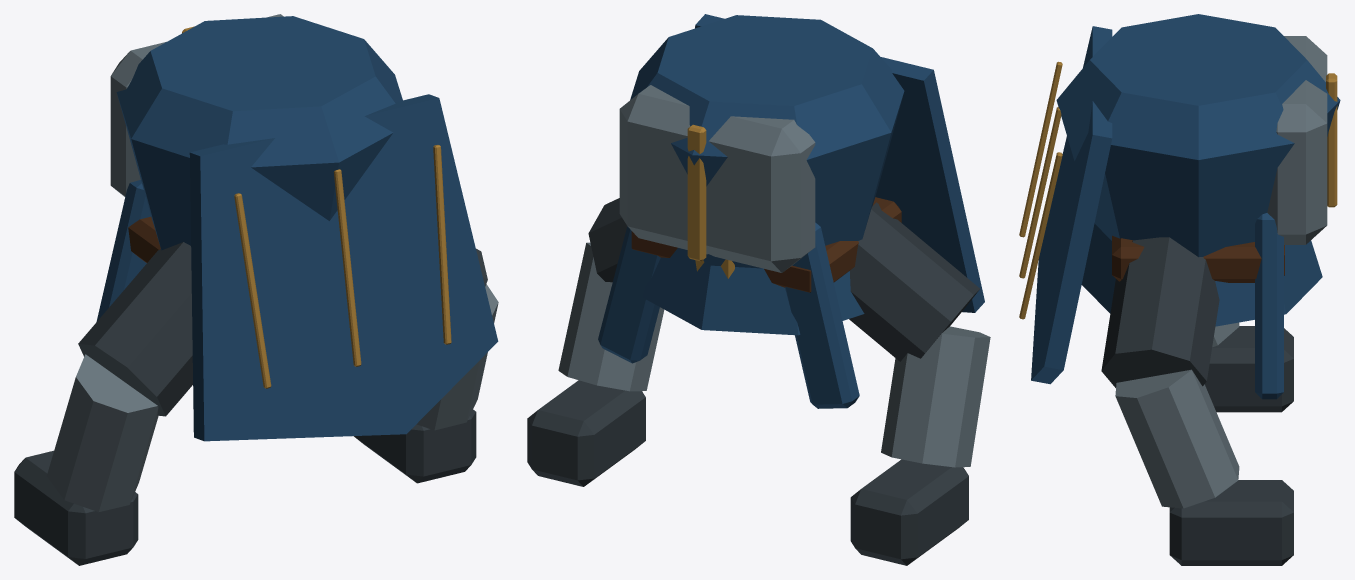
File: Rider.glb
The picture shows the model from 3 angles, left to right: view 1: azimuth 30°, elevation 25°; view 2: azimuth 150°, elevation 25°; view 3: azimuth 270°, elevation 25°; orthographic projection. The views are drawn at different scales.
Visible parts, largest first — view 1: Sculpture; view 2: Sculpture; view 3: Sculpture.
Boxes of the visible parts, <box> form: Sculpture: <box>14,14,498,565</box>; Sculpture: <box>527,14,990,565</box>; Sculpture: <box>1019,14,1340,565</box>.
Size of the model in its own units: 1.01 by 1.04 by 0.7235.
